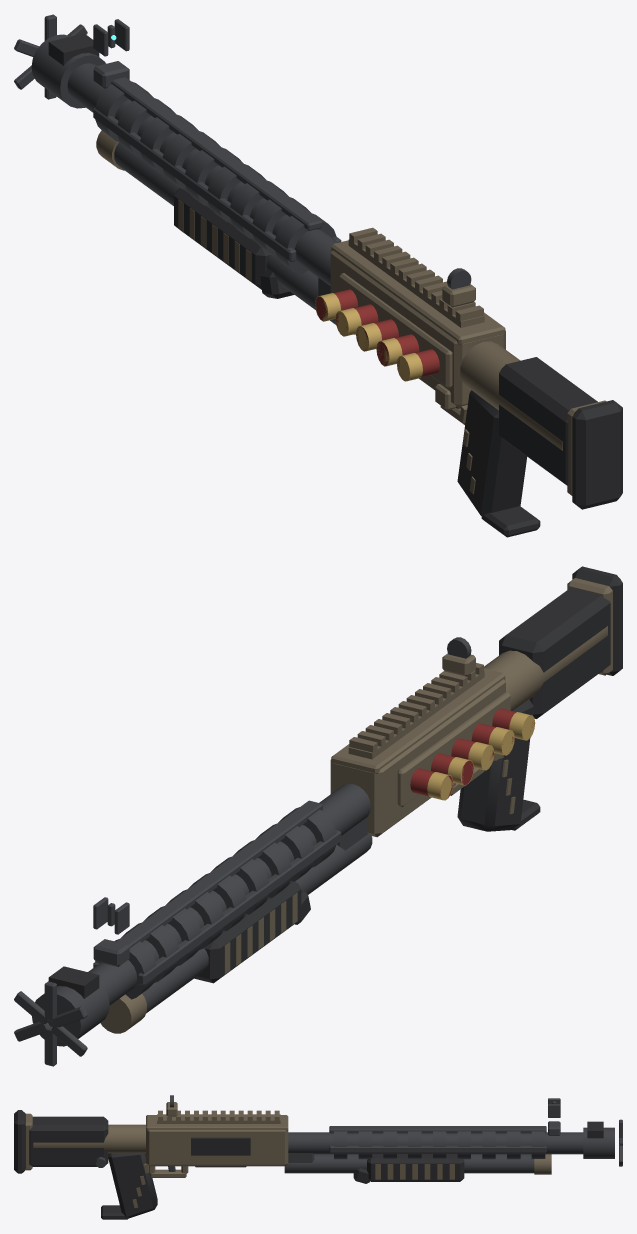
File: shotgun.glb
3 views of the same model, one above another, from view 1: azimuth 30°, elevation 25°; view 2: azimuth 150°, elevation 25°; view 3: azimuth 270°, elevation 25° (orthographic). The views are drawn at different scales.
Visible parts, largest first — view 1: SHOTGUN_Steel, SHOTGUN_Polymer, SHOTGUN_FDE, SHOTGUN_Brass, SHOTGUN_Hull; view 2: SHOTGUN_Steel, SHOTGUN_FDE, SHOTGUN_Polymer, SHOTGUN_Brass, SHOTGUN_Hull; view 3: SHOTGUN_Steel, SHOTGUN_Polymer, SHOTGUN_FDE.
Boxes of the visible parts, x1,y1,x2,y2 form: SHOTGUN_Steel: (14,14,471,408); SHOTGUN_Polymer: (48,33,622,537); SHOTGUN_FDE: (96,130,606,495); SHOTGUN_Brass: (315,293,422,381); SHOTGUN_Hull: (315,289,439,377); SHOTGUN_Steel: (14,637,471,1066); SHOTGUN_FDE: (100,578,612,1033); SHOTGUN_Polymer: (48,566,622,998); SHOTGUN_Brass: (427,712,535,800); SHOTGUN_Hull: (410,708,534,798); SHOTGUN_Steel: (95,1095,622,1173); SHOTGUN_Polymer: (14,1110,603,1219); SHOTGUN_FDE: (25,1102,551,1207).
Bounding box in the file's own units: 0.0832 × 0.1766 × 0.8127.
